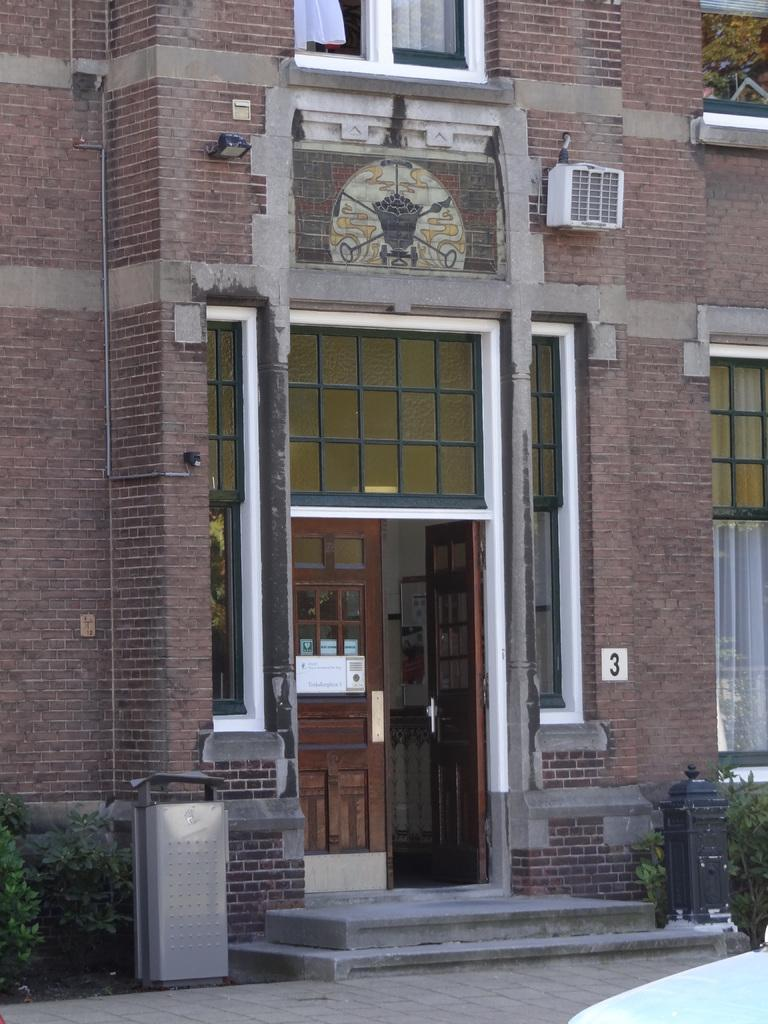door: (291, 510, 390, 888), (424, 525, 484, 863)
handle: (424, 697, 439, 738)
